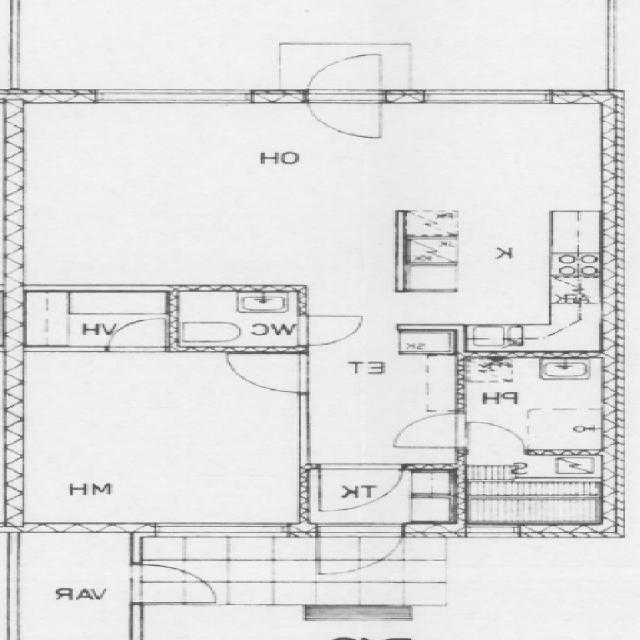door: (317, 523, 402, 582), (307, 90, 382, 142), (307, 51, 382, 103), (320, 465, 402, 512), (225, 354, 308, 393), (131, 565, 215, 603), (392, 412, 466, 448), (468, 420, 526, 456), (108, 318, 166, 352), (299, 316, 361, 344)
